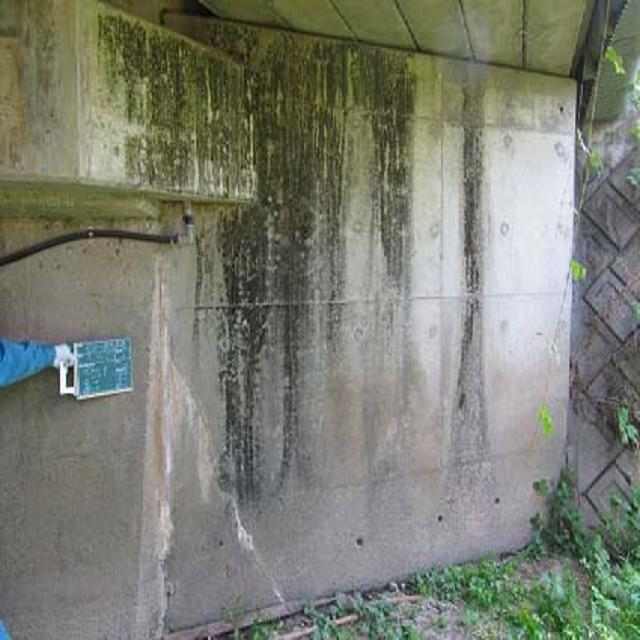leakage: (118, 6, 412, 541)
